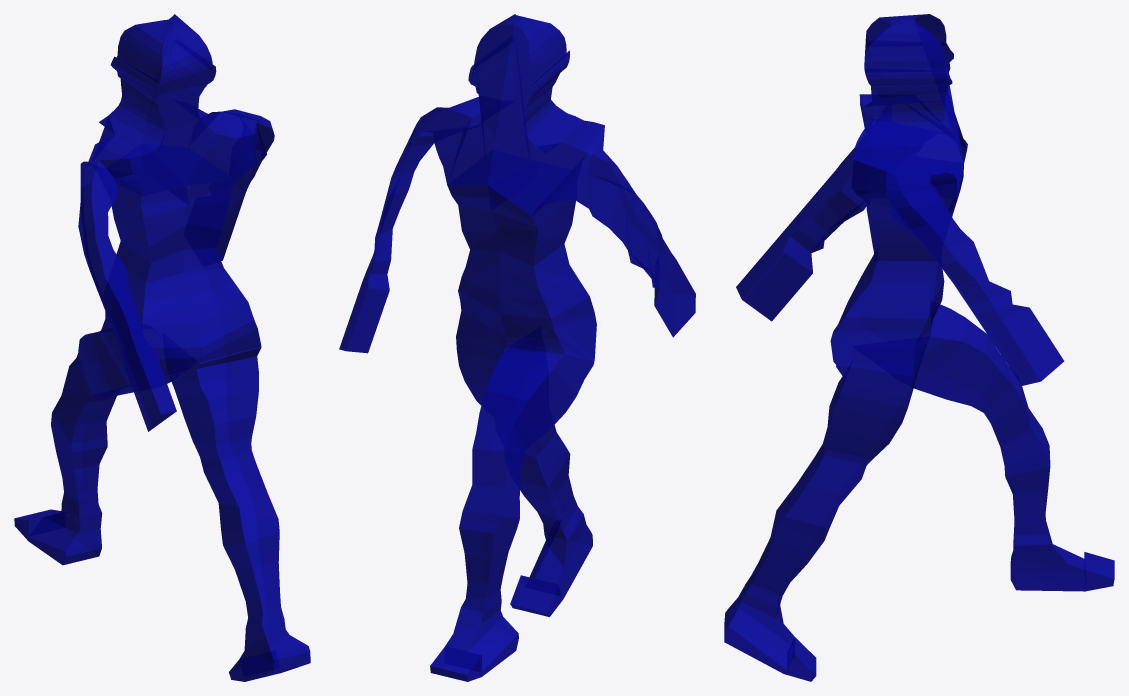
File: woman_000023.obj
The picture shows the model from 3 angles, left to right: view 1: azimuth 30°, elevation 25°; view 2: azimuth 150°, elevation 25°; view 3: azimuth 270°, elevation 25°; orthographic projection.
Visible parts, largest first — view 1: Cube_Cube.001; view 2: Cube_Cube.001; view 3: Cube_Cube.001.
Part boxes in pixels (left/top/right/bottom): Cube_Cube.001: left=14, top=14, right=310, bottom=681; Cube_Cube.001: left=339, top=14, right=695, bottom=681; Cube_Cube.001: left=724, top=14, right=1114, bottom=681.
Bounding box in the file's own units: 3.62 × 10.03 × 5.57.
